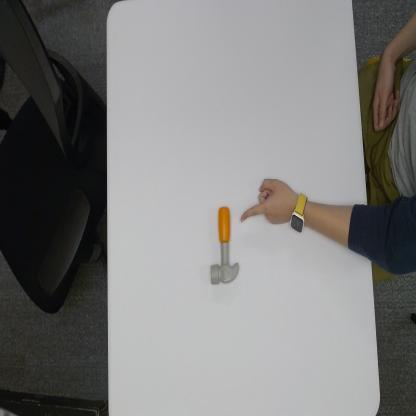Arm: (307, 199, 368, 257)
Hammer: (210, 207, 240, 286)
Hand: (240, 177, 293, 224)
